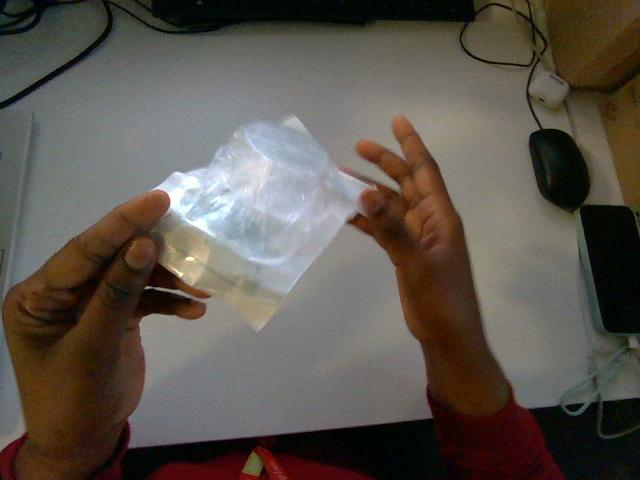gallipot: (153, 118, 369, 329)
